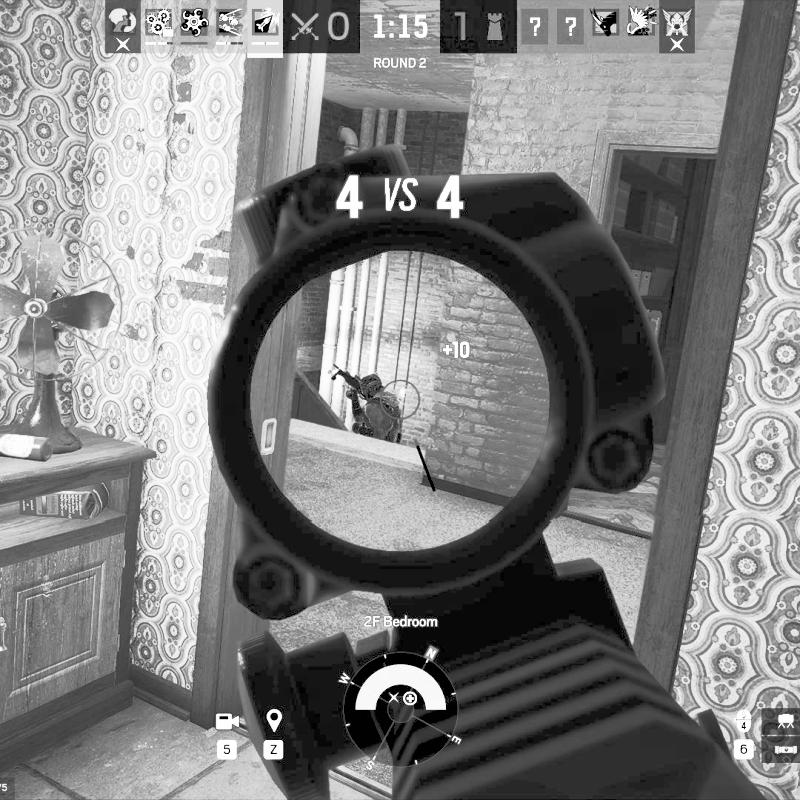Character: (329, 362, 404, 445)
Head: (360, 372, 383, 400)
